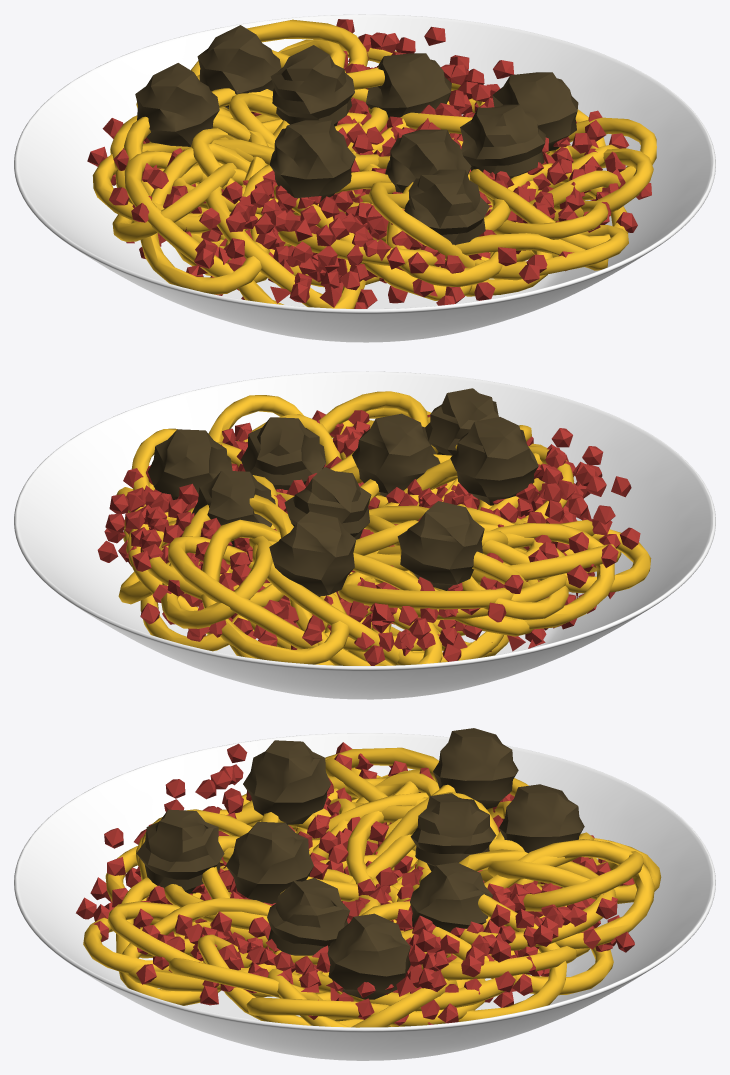
Rendered from spagetti.gltf.
3 views of the same model, one above another, from view 1: azimuth 30°, elevation 25°; view 2: azimuth 150°, elevation 25°; view 3: azimuth 270°, elevation 25° (orthographic).
Visible parts, largest first — view 1: Sphere, Torus Knot 2 x 3, Icosphere.004, Icosphere.001; view 2: Sphere, Torus Knot 2 x 3, Icosphere.004, Icosphere.001; view 3: Torus Knot 2 x 3, Sphere, Icosphere.004, Icosphere.001.
Part boxes in pixels (x1,y1,x2,y2): Sphere: (14,14,715,342); Torus Knot 2 x 3: (92,19,656,308); Icosphere.004: (135,25,578,245); Icosphere.001: (87,19,651,308); Sphere: (14,371,715,699); Torus Knot 2 x 3: (116,391,651,665); Icosphere.004: (148,388,538,596); Icosphere.001: (97,410,640,665); Torus Knot 2 x 3: (83,747,661,1027); Sphere: (14,733,715,1060); Icosphere.004: (136,728,584,999); Icosphere.001: (76,742,634,1025).
Bounding box in the file's own units: 1.4 × 0.4152 × 1.4.
Materials: 3 (3 with a texture image).
